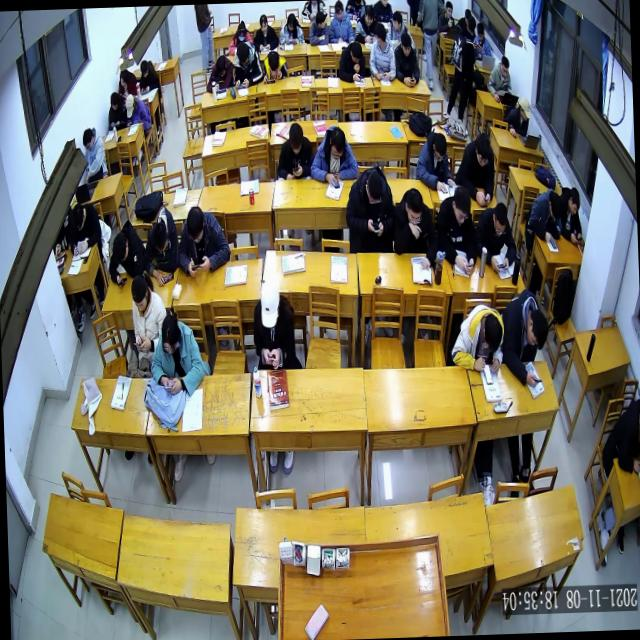bow: (140, 206, 180, 290), (106, 218, 146, 287), (524, 186, 564, 247), (204, 51, 234, 96), (260, 49, 288, 86), (225, 19, 252, 56)
down: (258, 278, 282, 329), (524, 307, 550, 354), (481, 311, 504, 357), (184, 204, 207, 247), (450, 184, 472, 228), (160, 312, 182, 356), (403, 187, 424, 230), (129, 273, 150, 316), (364, 168, 384, 208), (150, 220, 170, 256), (328, 125, 347, 162), (474, 131, 492, 170), (287, 120, 305, 158), (491, 200, 508, 240), (112, 230, 130, 265), (431, 131, 448, 164), (547, 191, 564, 223), (566, 185, 582, 218), (70, 202, 86, 232), (399, 30, 414, 60), (518, 95, 532, 123), (235, 42, 250, 68), (82, 126, 95, 154), (349, 40, 363, 66), (215, 54, 228, 80), (124, 92, 136, 119), (266, 50, 280, 73), (364, 3, 376, 27), (332, 0, 345, 22), (500, 54, 510, 79), (118, 66, 129, 88), (236, 21, 247, 43), (139, 59, 150, 80), (110, 91, 120, 113), (258, 14, 268, 36), (285, 12, 296, 32), (476, 21, 486, 43)
lookup: (443, 0, 453, 19)
sit: (498, 286, 551, 390), (148, 306, 206, 400), (342, 163, 396, 256), (250, 275, 298, 370), (174, 201, 232, 278), (448, 302, 506, 378), (433, 183, 478, 278), (128, 269, 168, 375), (390, 185, 438, 273), (444, 13, 480, 123), (452, 130, 498, 208), (473, 200, 518, 276), (307, 122, 358, 189), (599, 403, 640, 477), (413, 128, 454, 194), (274, 120, 314, 182), (66, 198, 102, 257), (365, 18, 396, 82), (392, 28, 422, 87), (232, 38, 264, 90), (558, 185, 584, 248), (81, 125, 108, 183), (485, 52, 512, 104), (336, 38, 367, 83), (503, 95, 533, 139), (326, 0, 354, 44), (123, 91, 151, 132), (252, 12, 280, 52), (353, 2, 378, 46), (106, 88, 128, 132), (307, 8, 330, 48), (386, 6, 410, 44), (278, 12, 304, 46), (136, 58, 160, 94), (472, 19, 491, 61), (116, 64, 137, 100), (436, 0, 456, 33)
